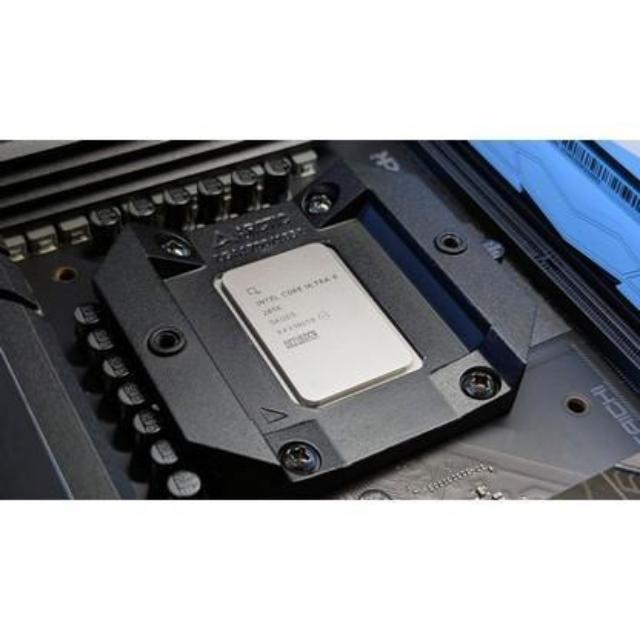CPU: (218, 240, 418, 414)
